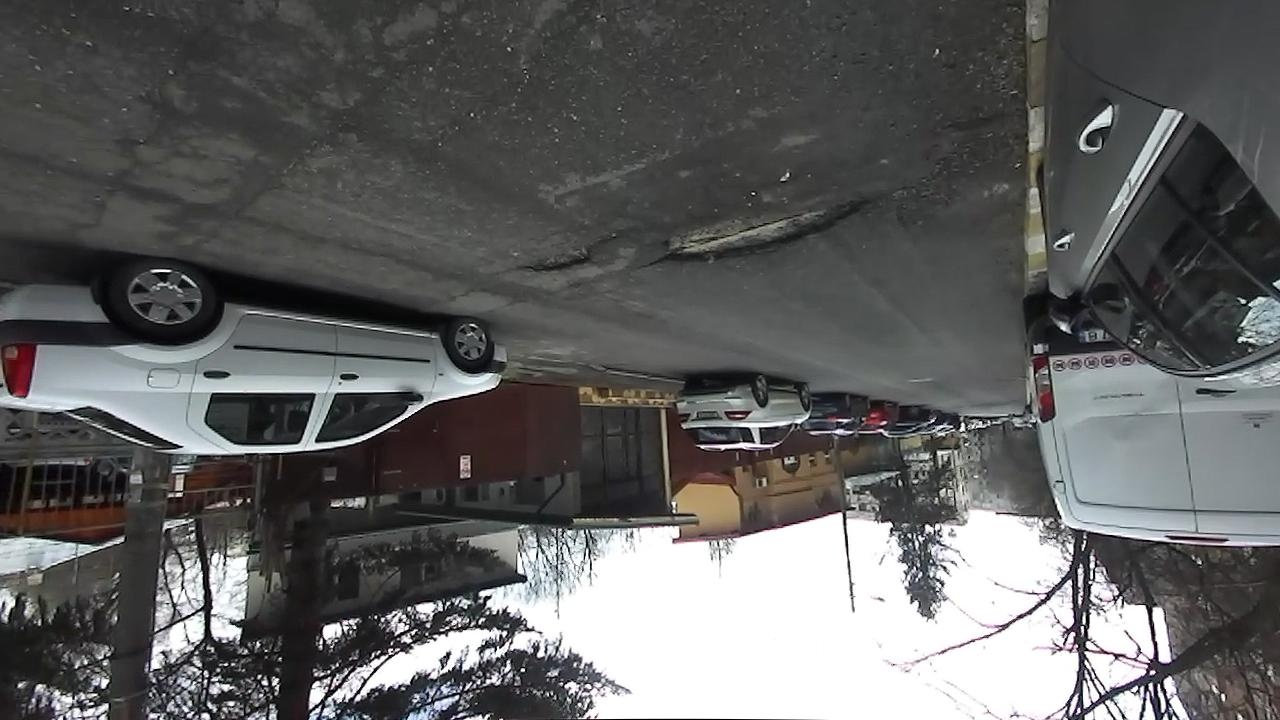pothole: (637, 186, 886, 273), (514, 232, 623, 276)
